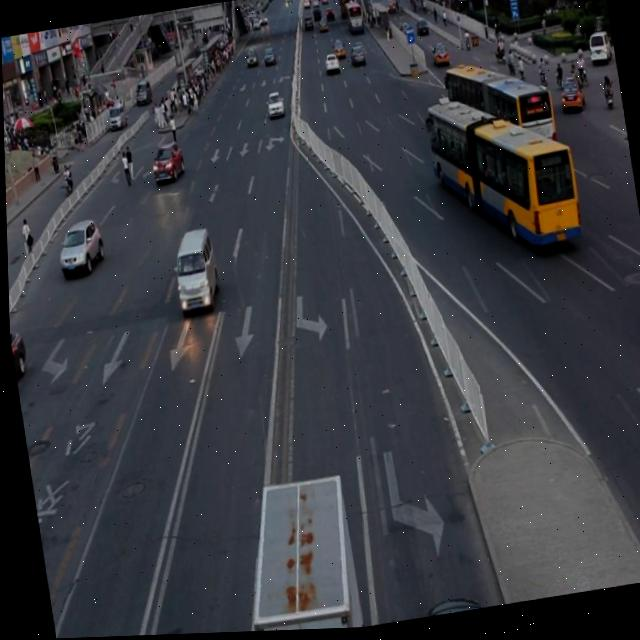bus: (230, 472, 360, 634)
car: (53, 217, 106, 278), (414, 594, 490, 621), (8, 324, 29, 390)
truck: (167, 226, 220, 313)
van: (423, 87, 580, 265), (442, 55, 556, 175)
